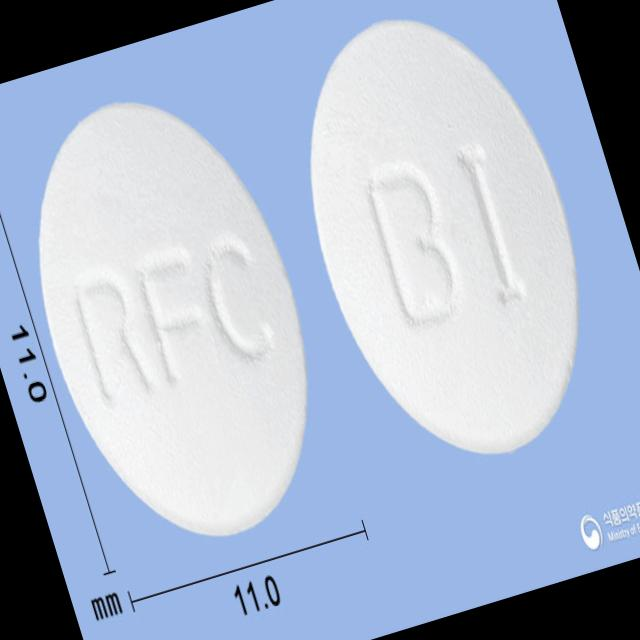Rofsin Tab: (0, 68, 355, 570), (261, 0, 626, 487)
